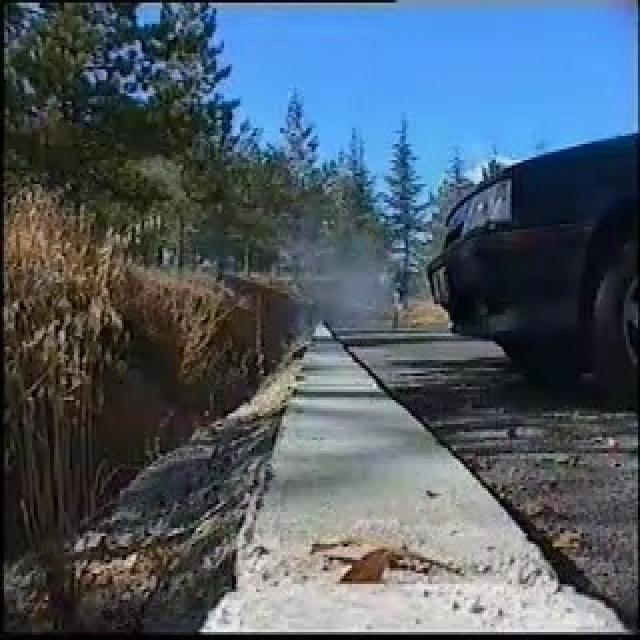smoke: (292, 238, 382, 327)
